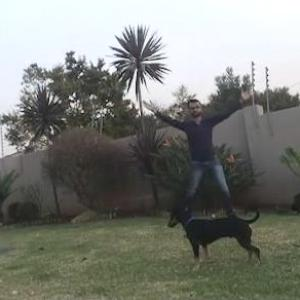takeoff: (126, 89, 238, 217)
